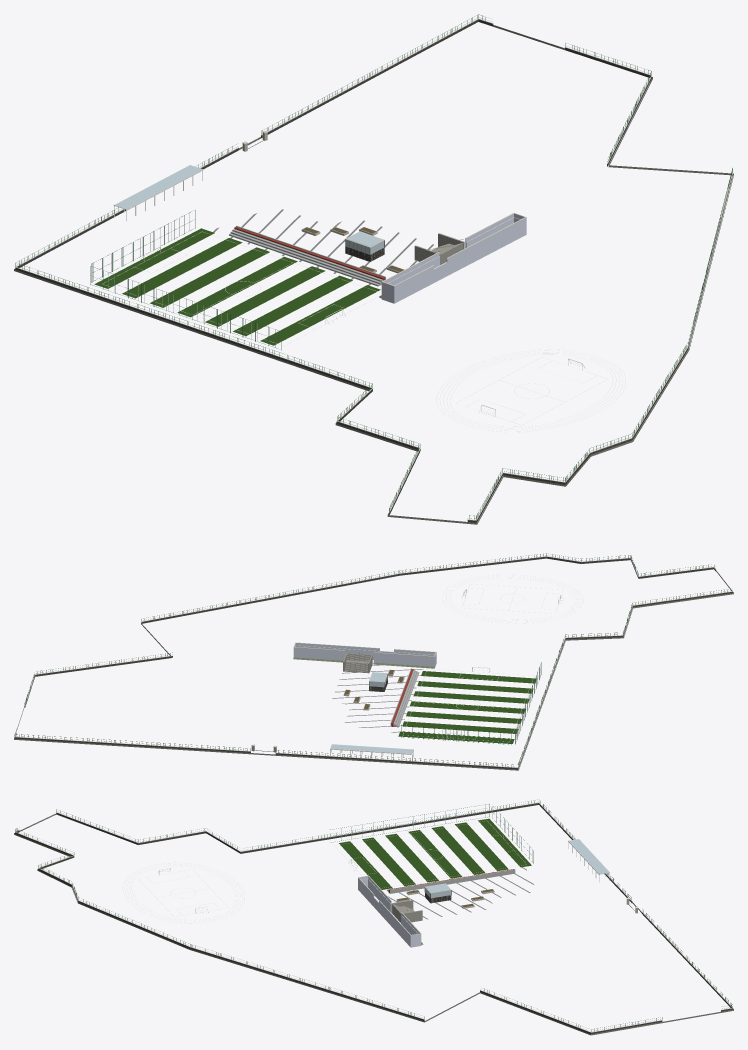
3 renders of one model, top to bottom at view 1: azimuth 30°, elevation 25°; view 2: azimuth 150°, elevation 25°; view 3: azimuth 270°, elevation 25°, orthographic. The views are drawn at different scales.
Parts seen in each view (by area): view 1: prop_field-stripes, prop_boundary-fence, prop_terrace-retaining-wall, prop_ground-skirt, prop_field-stands, prop_field-ballstop-fence, prop_stair-planters, prop_north-glass-canopy, prop_field-lines; view 2: prop_boundary-fence, prop_field-stripes, prop_ground-skirt, prop_terrace-retaining-wall, prop_stair-planters, prop_plaza-stripes, prop_field-ballstop-fence, prop_field-stands, prop_north-glass-canopy, prop__grand-stairs, prop_field-lines; view 3: prop_boundary-fence, prop_field-stripes, prop_ground-skirt, prop_terrace-retaining-wall, prop_stair-planters, prop_field-stands, prop_field-ballstop-fence, prop_north-glass-canopy, prop_plaza-stripes, prop_field-lines.
Boxes of the visible parts, x1,y1,x2,y2 form: prop_field-stripes: (94, 228, 380, 345); prop_boundary-fence: (15, 14, 733, 522); prop_terrace-retaining-wall: (381, 214, 526, 303); prop_ground-skirt: (14, 22, 733, 524); prop_field-stands: (229, 225, 385, 286); prop_field-ballstop-fence: (90, 210, 281, 350); prop_stair-planters: (301, 227, 404, 298); prop_north-glass-canopy: (113, 165, 203, 221); prop_field-lines: (102, 231, 607, 425); prop_boundary-fence: (14, 553, 732, 769); prop_field-stripes: (398, 671, 536, 743); prop_ground-skirt: (14, 558, 733, 770); prop_terrace-retaining-wall: (293, 643, 436, 673); prop_stair-planters: (293, 657, 434, 710); prop_plaza-stripes: (332, 665, 423, 732); prop_field-ballstop-fence: (401, 662, 541, 744); prop_field-stands: (390, 668, 419, 727); prop_north-glass-canopy: (330, 744, 413, 760); prop__grand-stairs: (344, 653, 370, 672); prop_field-lines: (403, 584, 563, 742); prop_boundary-fence: (15, 799, 733, 1033); prop_field-stripes: (339, 818, 531, 889); prop_ground-skirt: (14, 804, 733, 1035); prop_terrace-retaining-wall: (358, 876, 422, 947); prop_stair-planters: (396, 883, 494, 945); prop_field-stands: (387, 869, 515, 893); prop_field-ballstop-fence: (330, 804, 533, 863); prop_north-glass-canopy: (568, 839, 609, 882); prop_plaza-stripes: (387, 867, 533, 919); prop_field-lines: (138, 820, 526, 916).
Size of the model in its own units: 220 by 6.62 by 290.
Materials: 19 (3 with a texture image).
